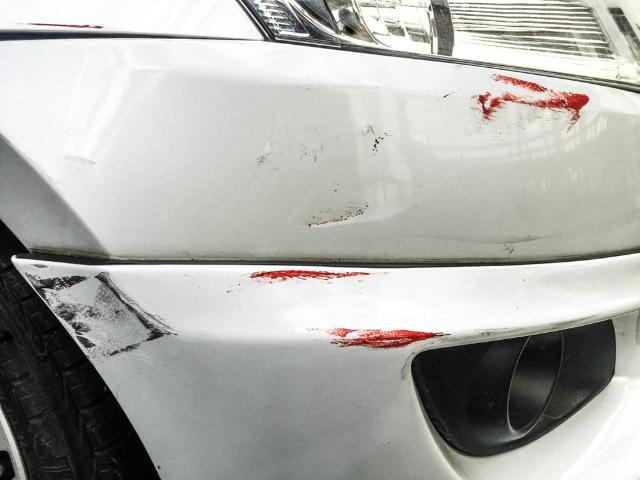scratch: (257, 68, 596, 231), (22, 270, 184, 359), (326, 310, 604, 349), (228, 265, 381, 295), (19, 19, 113, 31)
